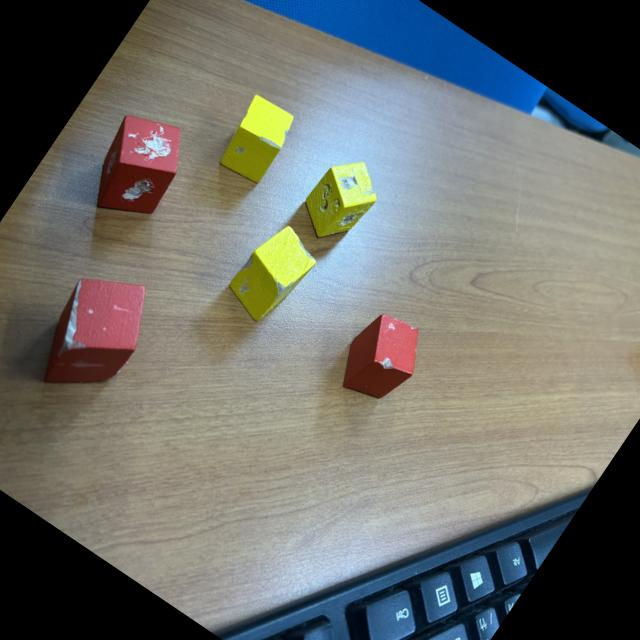broken: (20, 252, 168, 416), (72, 98, 202, 239), (220, 216, 326, 334), (330, 302, 436, 414), (291, 145, 391, 253), (210, 90, 302, 190)
